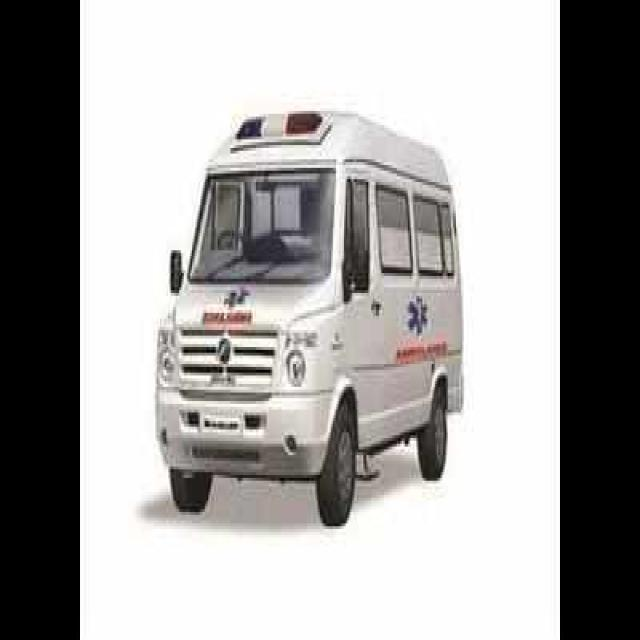emergency: (156, 113, 462, 524)
